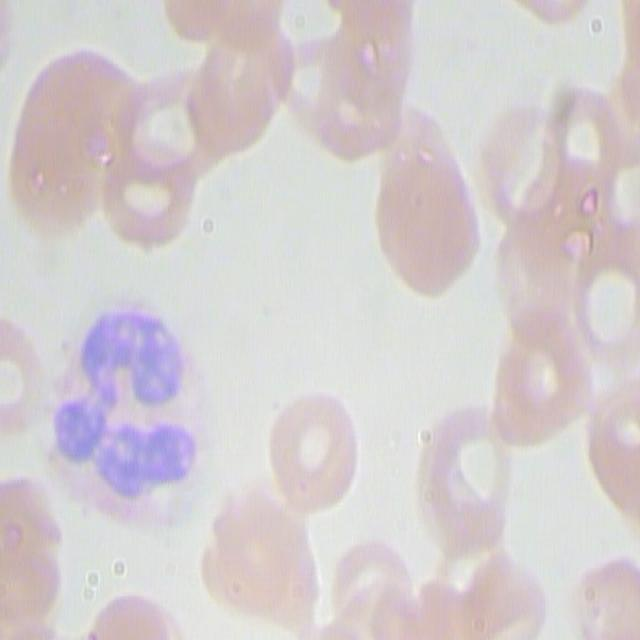RBC: (372, 104, 478, 291), (195, 472, 318, 632), (23, 38, 122, 227), (259, 376, 363, 523), (418, 403, 514, 548), (497, 317, 593, 443), (187, 31, 294, 140), (310, 56, 406, 170), (571, 226, 640, 382), (114, 80, 213, 184), (542, 82, 623, 204), (502, 195, 575, 327), (106, 148, 190, 262), (486, 111, 569, 226), (319, 0, 418, 92), (258, 33, 339, 134), (0, 480, 58, 607), (153, 3, 271, 65), (590, 376, 640, 521), (258, 0, 363, 68), (454, 563, 541, 640), (77, 580, 186, 640), (330, 538, 411, 610), (595, 136, 640, 254), (578, 556, 640, 640), (402, 574, 474, 636), (0, 312, 37, 427), (518, 0, 600, 35), (337, 592, 385, 640)
WBC: (50, 296, 208, 538)
